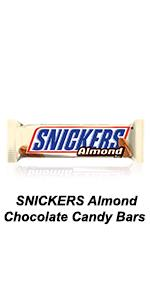snickers: (31, 128, 124, 148)
